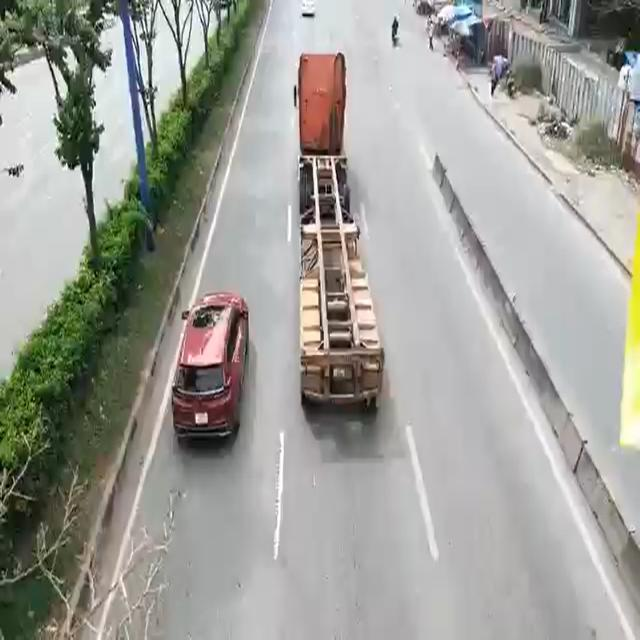car: (174, 287, 250, 461)
truck: (294, 46, 385, 425)
